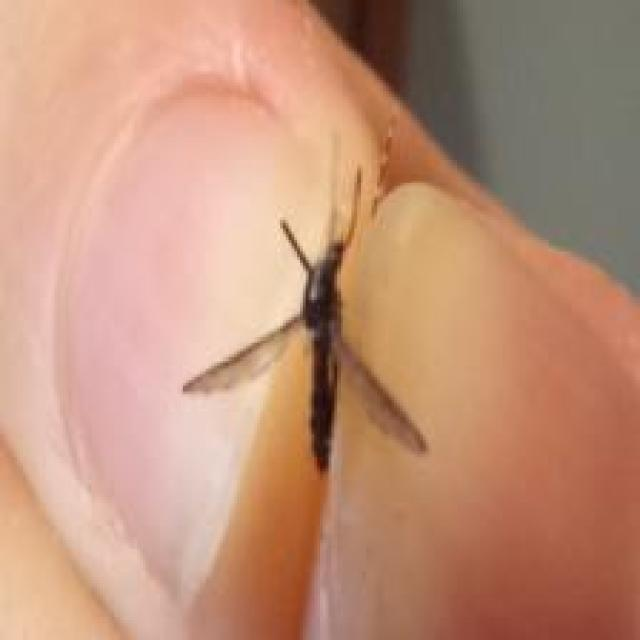Aedes albopictus: (180, 140, 429, 474)
